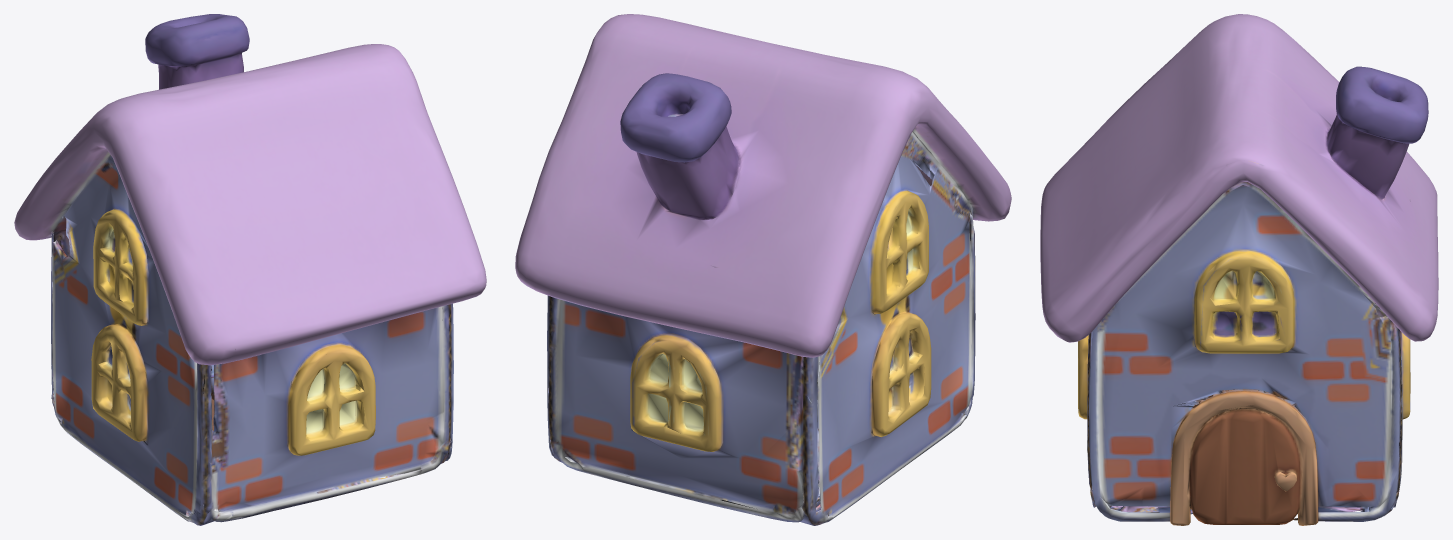
3 renders of one model, left to right at view 1: azimuth 30°, elevation 25°; view 2: azimuth 150°, elevation 25°; view 3: azimuth 270°, elevation 25°, orthographic. The views are drawn at different scales.
Parts seen in each view (by area): view 1: repaired; view 2: repaired; view 3: repaired.
Boxes of the visible parts, box(x1,y1,x2,y2) form: repaired: box(14, 14, 486, 525); repaired: box(515, 14, 1011, 525); repaired: box(1040, 14, 1438, 525).
Size of the model in its own units: 0.8178 by 1 by 0.9281.
Materials: 1 (1 with a texture image).
